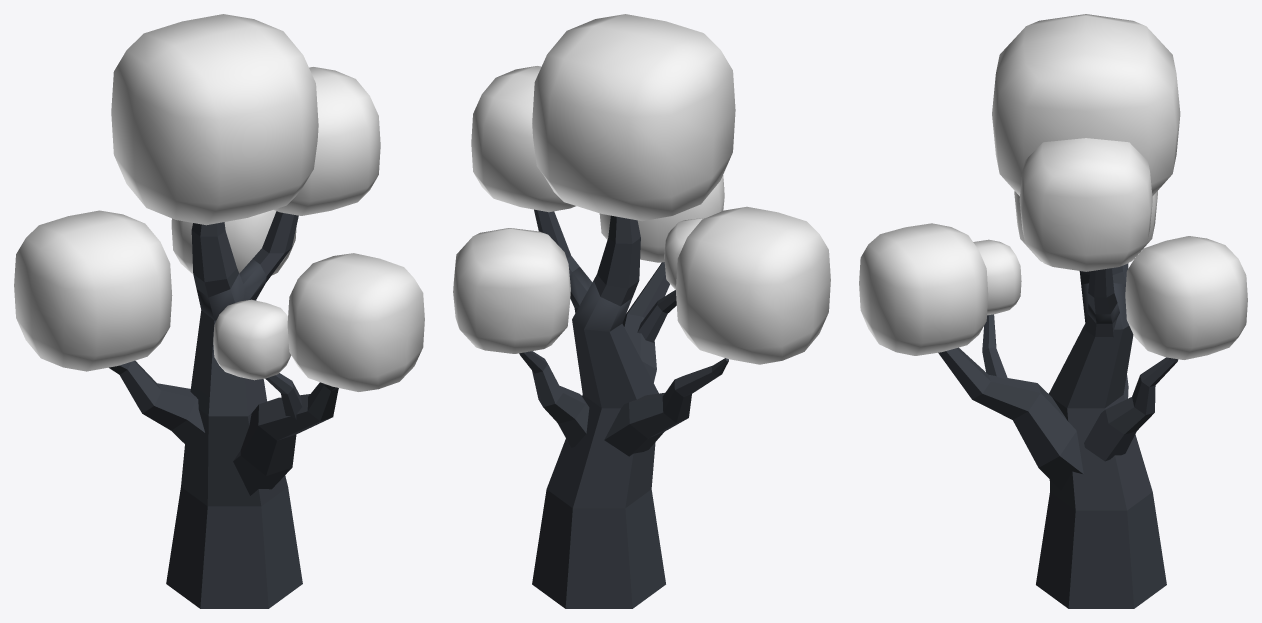
Rendered from Wite_tree.fbx.
3 views of the same model, side by side, from view 1: azimuth 30°, elevation 25°; view 2: azimuth 150°, elevation 25°; view 3: azimuth 270°, elevation 25° (orthographic). The views are drawn at different scales.
Parts seen in each view (by area): view 1: Tree_1.001; view 2: Tree_1.001; view 3: Tree_1.001.
Part boxes in pixels (box(x1,y1,x2,y2)): Tree_1.001: box(14, 14, 424, 608); Tree_1.001: box(453, 14, 830, 608); Tree_1.001: box(859, 14, 1247, 608).
Bounding box in the file's own units: 1.31 × 1.38 × 2.11.
